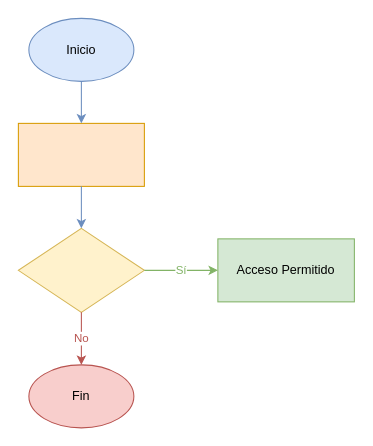
Image size: 373x446. Some labels were removed from this diagram. Here are the shapes that lost their labels. From the top down, the centre of each, then its label:
[80,154]: Validar Usuario
[80,269]: ¿Autorizado?
